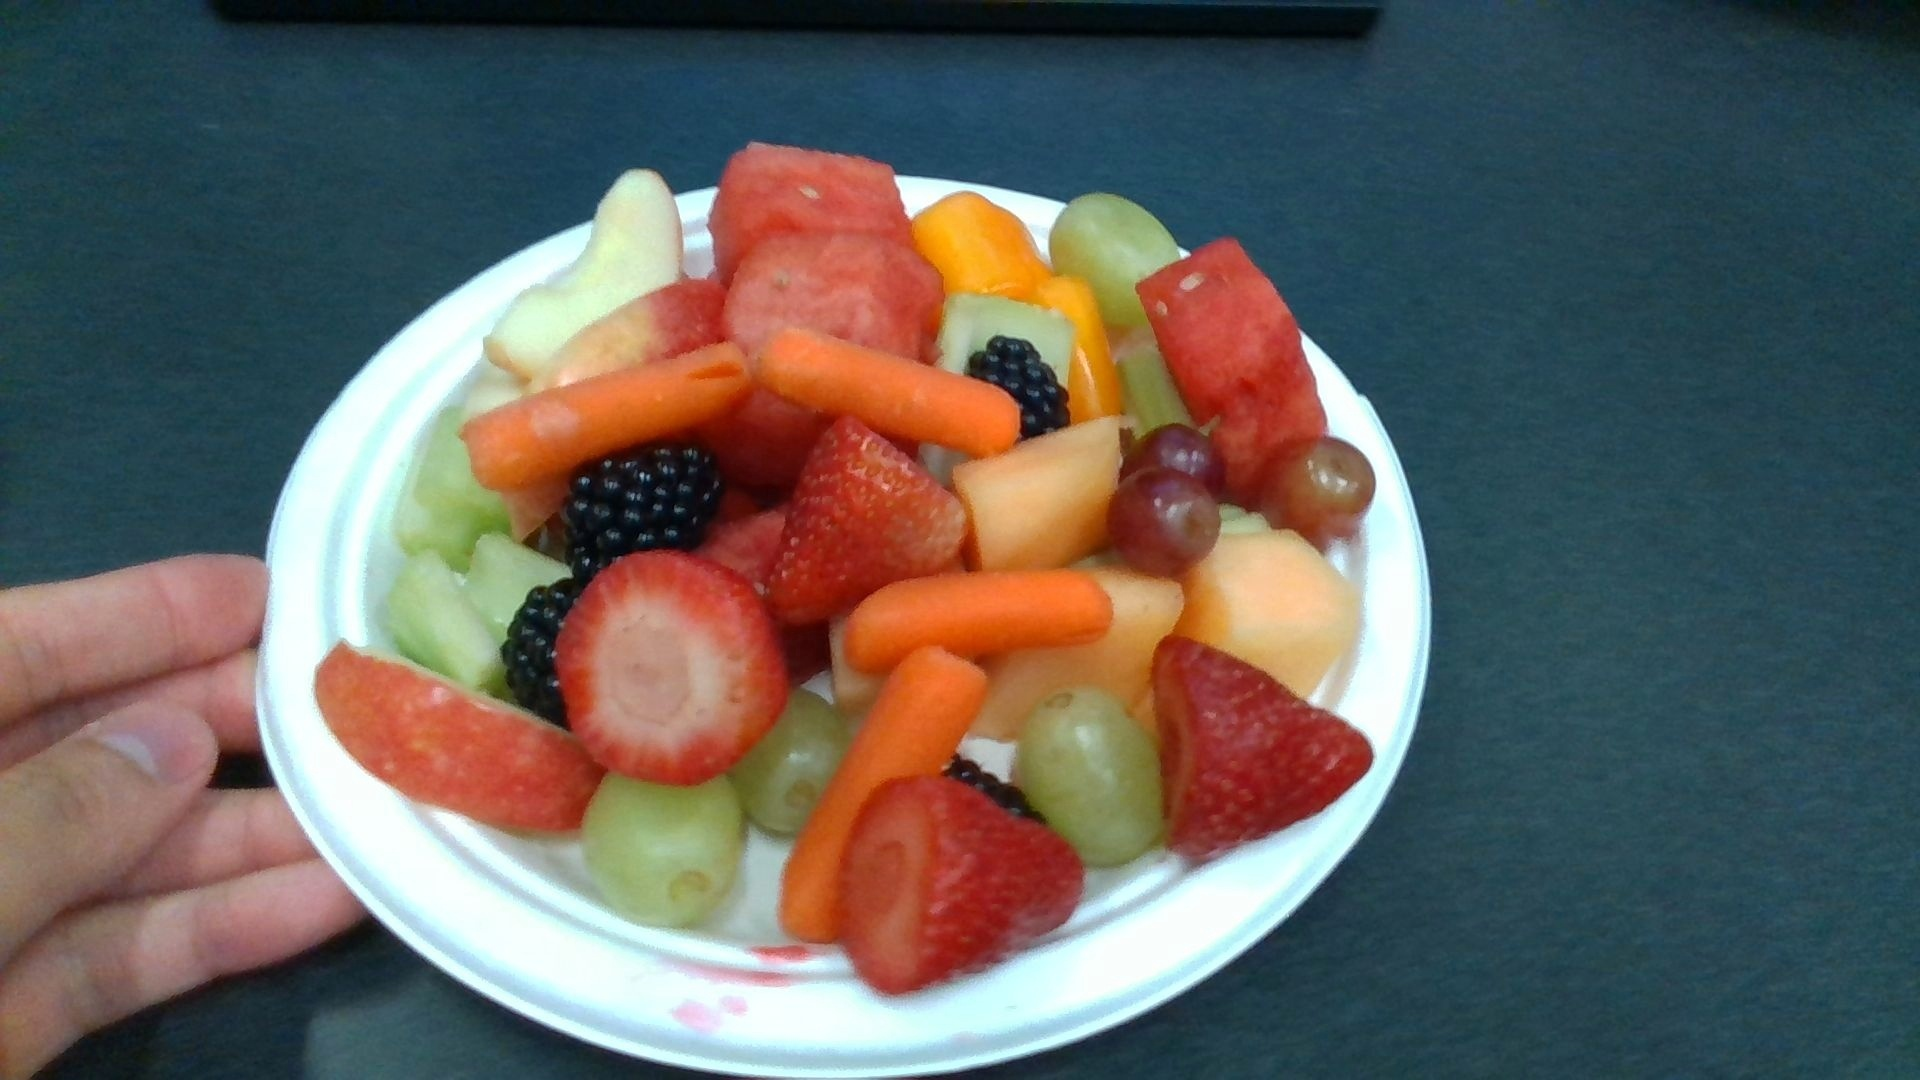apple: (315, 640, 605, 836), (483, 166, 682, 376), (529, 278, 727, 398)
blackberry: (562, 446, 724, 555)
cantalope: (967, 570, 1184, 738), (953, 418, 1120, 568)
carrot: (785, 647, 984, 942), (460, 340, 750, 491), (757, 326, 1019, 456), (847, 574, 1114, 670)
celery: (385, 535, 570, 680)
grape_green: (1017, 690, 1160, 866), (580, 773, 749, 920), (1050, 193, 1175, 320)
grape_purple: (1255, 436, 1371, 545), (1109, 468, 1222, 576)
melon: (1137, 240, 1327, 501), (724, 233, 944, 368), (709, 141, 916, 276)
strawberry: (559, 550, 790, 783), (835, 781, 1084, 993), (1153, 638, 1375, 856), (771, 421, 965, 621)
